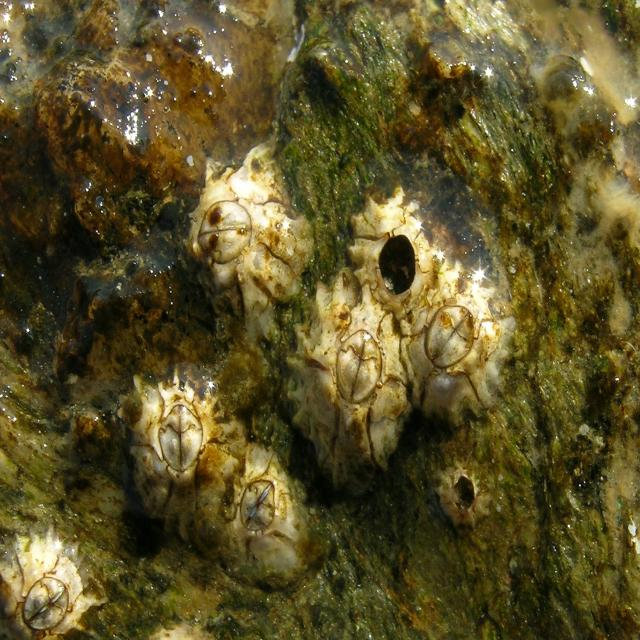barnacles: (288, 295, 421, 479), (182, 142, 302, 318), (117, 364, 227, 538), (401, 270, 518, 426), (206, 449, 319, 596), (348, 171, 436, 315), (1, 524, 101, 640), (425, 454, 510, 543)
